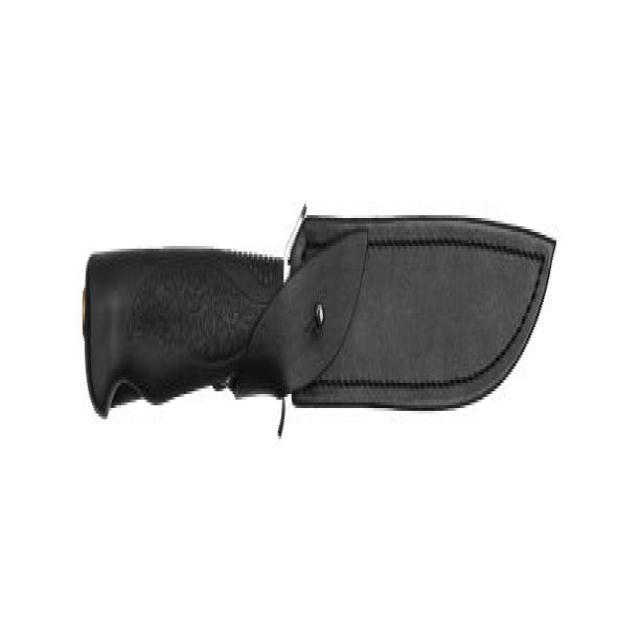knife: (81, 191, 563, 428)
